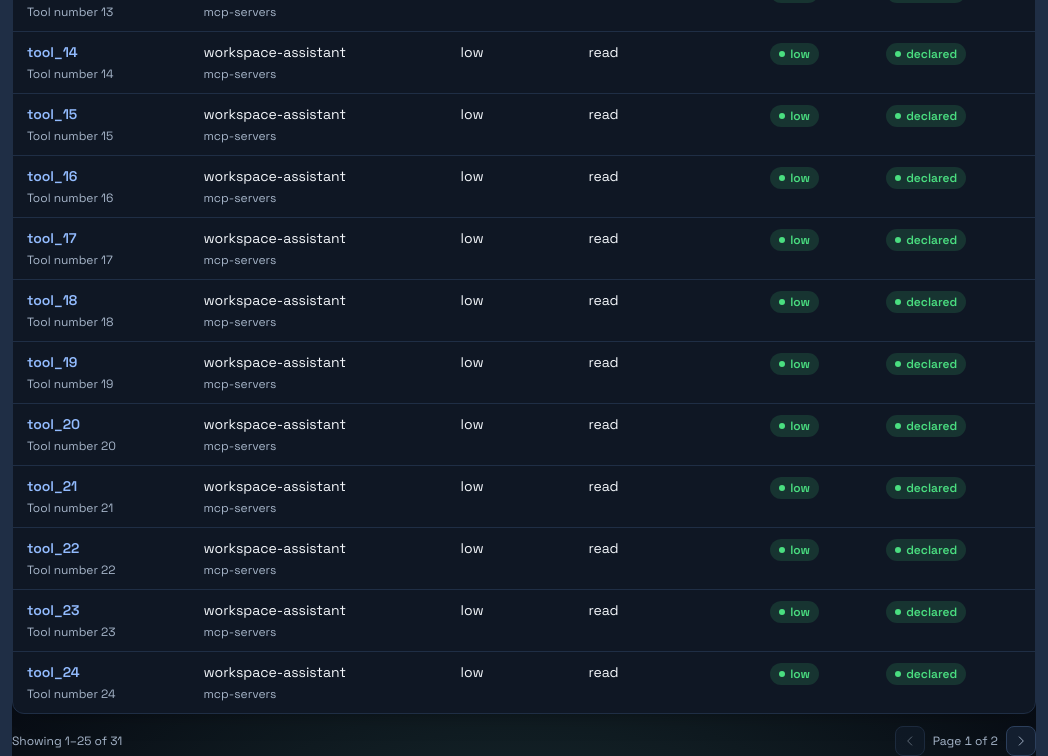
it: pagination › pages long tool lists and reports the visible window
(page scrolled)
Expected: the text with test id "tool-table-pagination-status" reads "Showing 1–25 of 31", 12,732 -> 122,750
Click the button with test id "tool-table-next-page".
click(1021, 741)  # box 1006,726 -> 1036,755
(page scrolled)
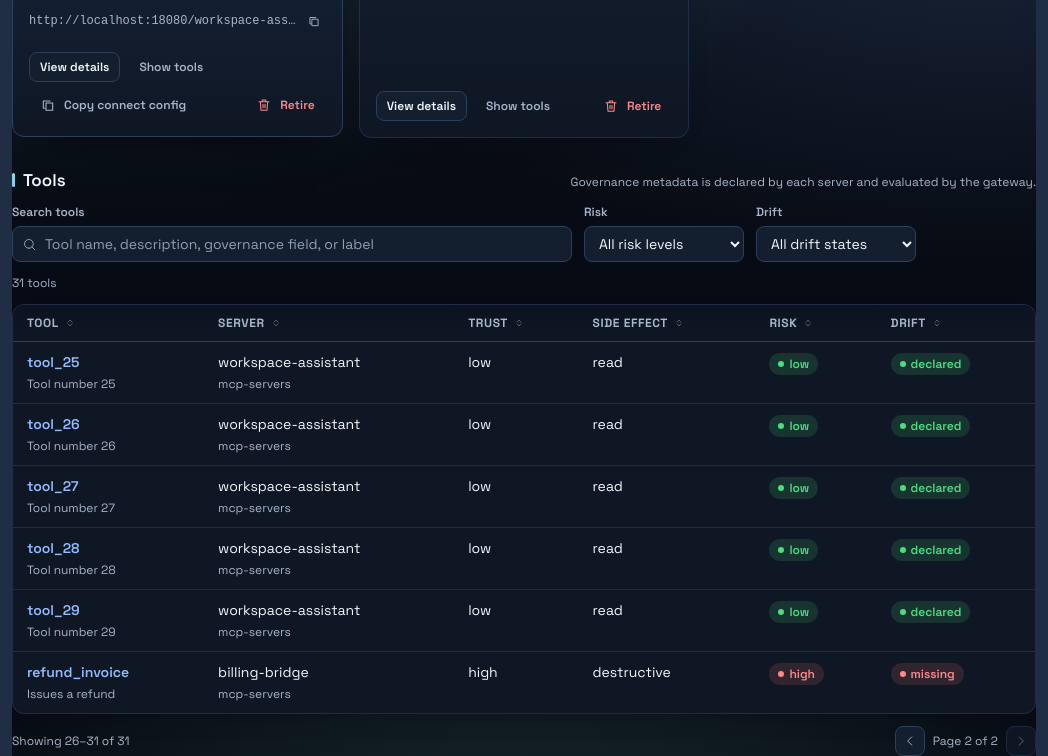
Now the number of rows with test id "tool-row" is 6, box 13,342 -> 1035,404; 13,404 -> 1035,466; 13,466 -> 1035,528; 13,528 -> 1035,590; 13,590 -> 1035,652; 13,652 -> 1035,713
Now the text with test id "tool-table-pagination-status" reads "Showing 26–31 of 31", box 12,732 -> 130,750
